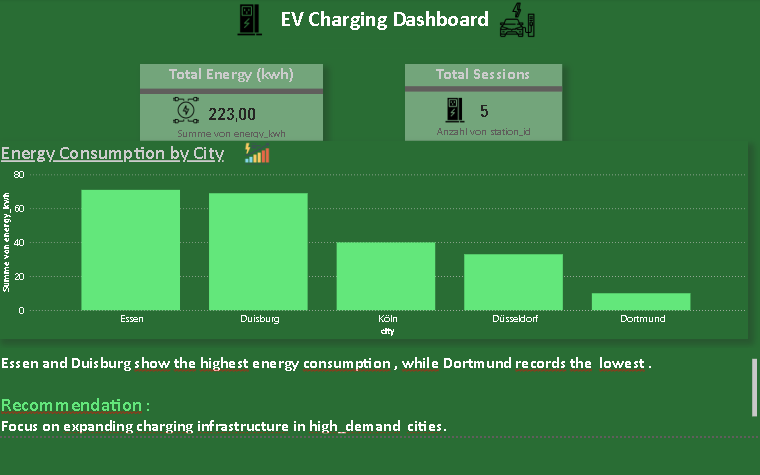

What the dashboard file says about the page in this screenshot:
{"tool":"powerbi","page":{"name":"Seite 1","canvas":[1270,730],"ordinal":0},"visuals":[{"type":"card","title":"Total Energy (kwh)","fields":{"Values":["Sum(charging_sessions.energy_kwh)"]},"box":[236.7,110,305,128.3],"z":0},{"type":"card","title":"Total Sessions","fields":{"Values":["CountNonNull(stations.station_id)"]},"box":[678.3,110,261.7,128.3],"z":1},{"type":"textbox","title":"EV Charging  Dashboard","box":[465.3,13.4,435.1,70.6],"z":2},{"type":"clusteredColumnChart","title":"Energy Consumption by City","fields":{"Category":["stations.city"],"Y":["Sum(charging_sessions.energy_kwh)"]},"box":[0,238.3,1250,330],"z":3},{"type":"image","box":[389.7,0,58.8,72.2],"z":4},{"type":"image","box":[809.7,6.7,110.9,58.8],"z":5},{"type":"image","box":[726.7,163.3,70,46.7],"z":6},{"type":"image","box":[398.3,238.3,66.7,41.7],"z":7},{"type":"image","box":[283.3,163.3,60,46.7],"z":8},{"type":"textbox","box":[0,583.3,1270,146.7],"z":10}]}

Visuals, with their boxes on the page's 1270x730 design canvas (x1, y1, x2, y2). These are canvas units, not pixel positions in the 760x475 screenshot, which may show the page scaled, cropped or inside an application window:
"Total Energy (kwh)" card: [237,110,542,238]
"Total Sessions" card: [678,110,940,238]
"EV Charging  Dashboard" textbox: [465,13,900,84]
"Energy Consumption by City" clusteredColumnChart: [0,238,1250,568]
image: [390,0,448,72]
image: [810,7,921,66]
image: [727,163,797,210]
image: [398,238,465,280]
image: [283,163,343,210]
textbox: [0,583,1270,730]
